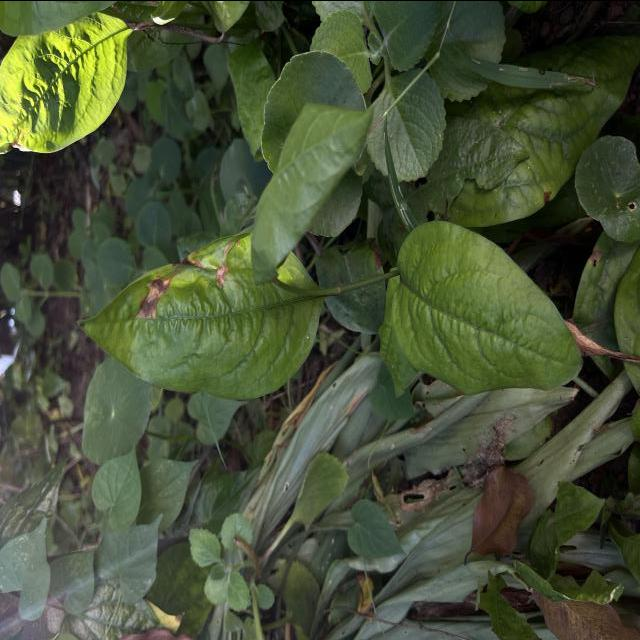Plumbago indica: (70, 229, 326, 405), (381, 218, 587, 402)
